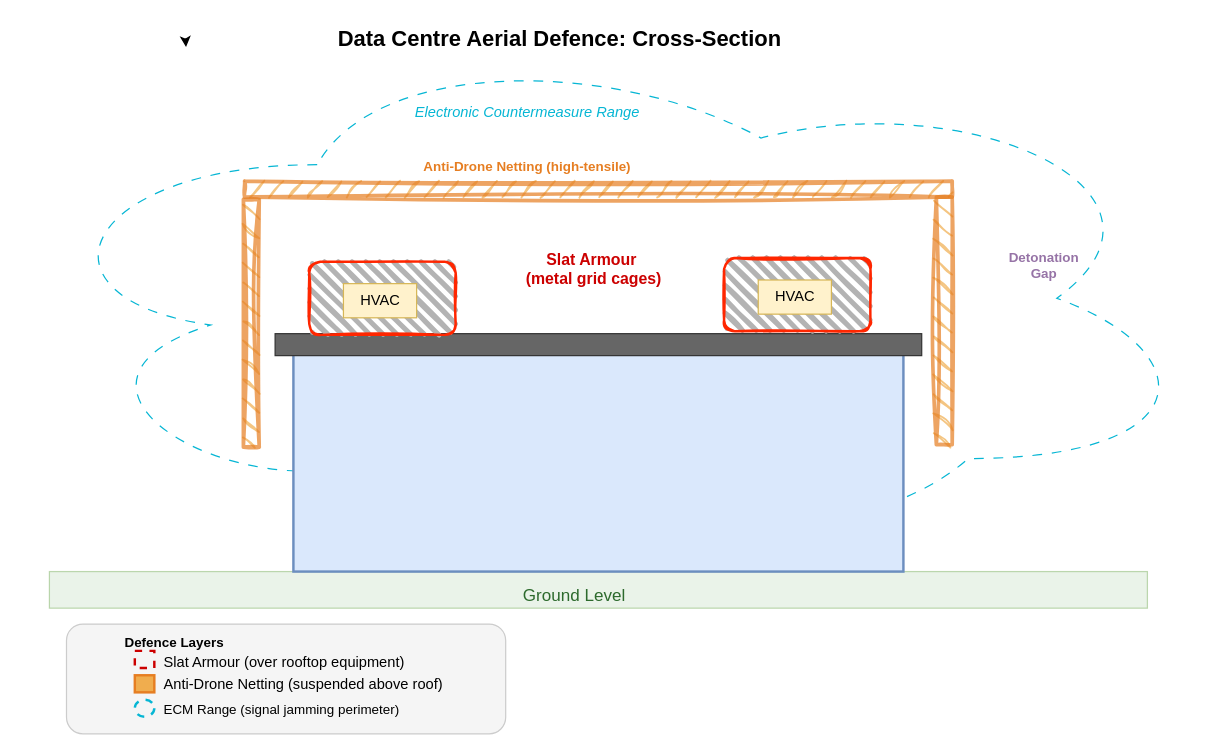
Some shapes in this 1226 by 755 pixel diagram are drawn without their labels. The shapes that lost their labels are listed below. From the top down, each one's centre as x and y in pixels, then its label:
At (x=598, y=344): "Roof".
At (x=598, y=461): "Data Centre".
